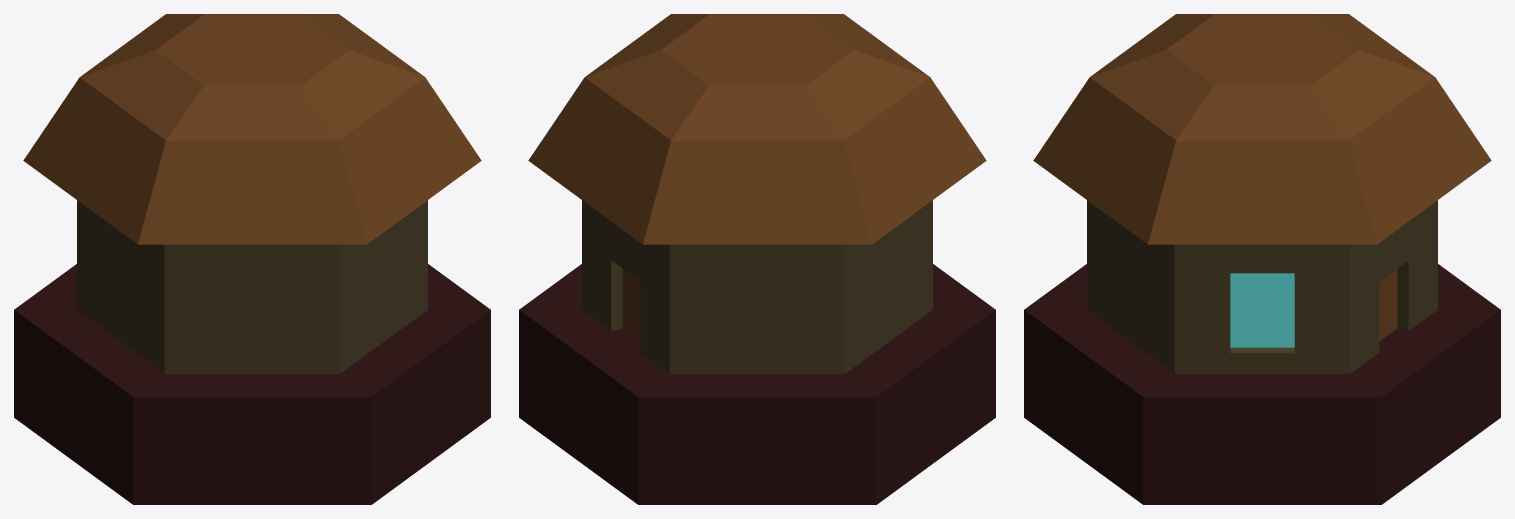
The model's file is Dom_base.fbx.
3 views of the same model, side by side, from view 1: azimuth 30°, elevation 25°; view 2: azimuth 150°, elevation 25°; view 3: azimuth 270°, elevation 25° (orthographic).
Visible parts, largest first — view 1: Cylinder.002; view 2: Cylinder.002; view 3: Cylinder.002.
Boxes of the visible parts, left/top/right/bottom form: Cylinder.002: left=14, top=14, right=490, bottom=504; Cylinder.002: left=519, top=14, right=995, bottom=504; Cylinder.002: left=1024, top=14, right=1500, bottom=504.
Bounding box in the file's own units: 86.6 × 85.11 × 100.
